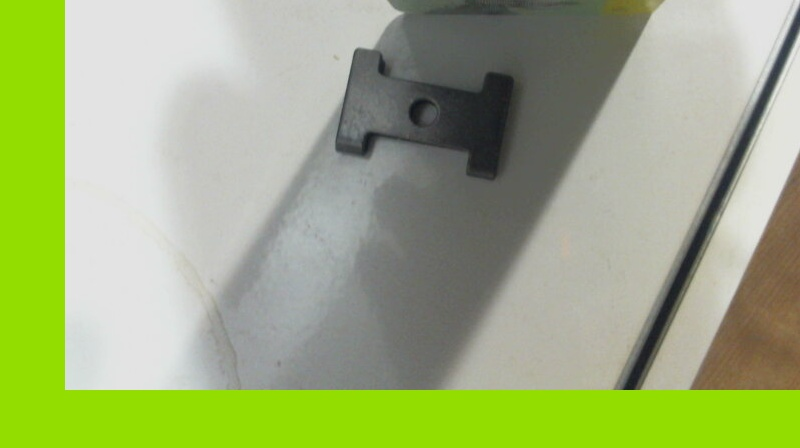O002: (332, 45, 517, 181)
